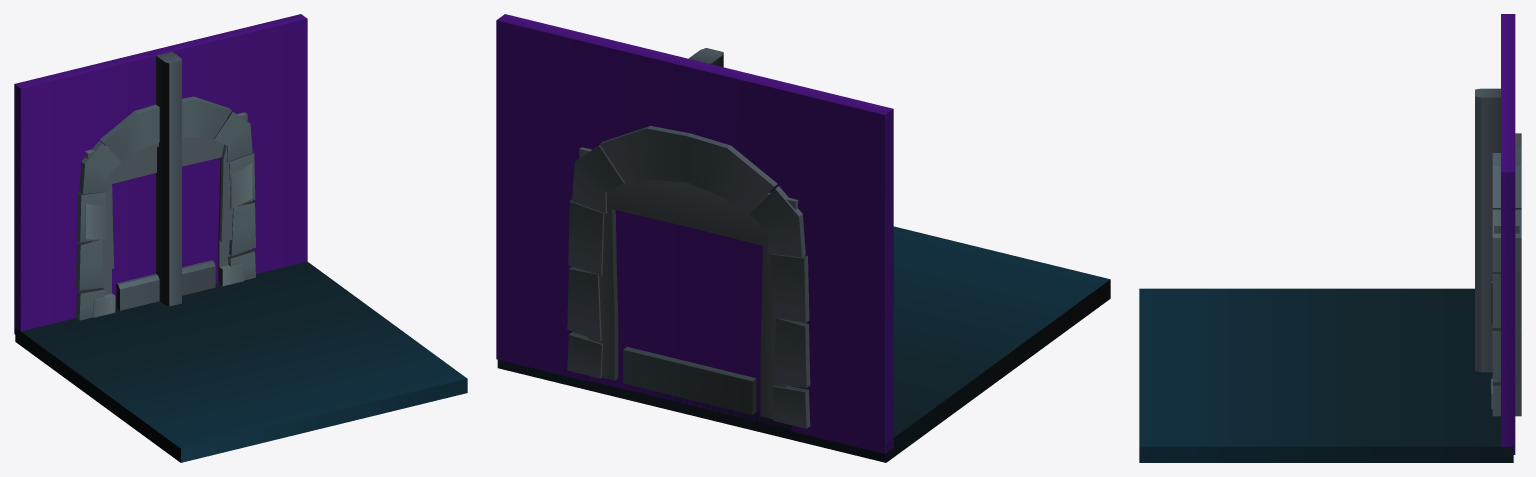
The model's file is Moduls.fbx.
The picture shows the model from 3 angles, left to right: view 1: azimuth 30°, elevation 25°; view 2: azimuth 150°, elevation 25°; view 3: azimuth 270°, elevation 25°; orthographic projection. The views are drawn at different scales.
Parts seen in each view (by area): view 1: Floor_3x3, Wall_3х2.5m, Stone_jamb_2, Stone_jamb_1, Column_1, Border_middle, Wall_with_hole, Border_small; view 2: Wall_with_hole, Floor_3x3, Wall_3х2.5m, Stone_jamb_2, Stone_jamb_1, Border_middle, Border_small; view 3: Floor_3x3, Wall_3х2.5m, Column_1, Stone_jamb_2, Wall_with_hole.
Part boxes in pixels (x1,y1,x2,y2): Floor_3x3: [15, 261, 467, 462]; Wall_3х2.5m: [15, 14, 307, 336]; Stone_jamb_2: [76, 96, 255, 320]; Stone_jamb_1: [85, 112, 252, 317]; Column_1: [156, 51, 181, 306]; Border_middle: [116, 260, 215, 310]; Wall_with_hole: [14, 14, 301, 334]; Border_small: [132, 263, 202, 305]; Wall_with_hole: [496, 19, 892, 453]; Floor_3x3: [497, 226, 1110, 462]; Wall_3х2.5m: [498, 14, 893, 450]; Stone_jamb_2: [567, 126, 810, 428]; Stone_jamb_1: [579, 147, 798, 419]; Border_middle: [623, 347, 756, 414]; Border_small: [641, 351, 734, 410]; Floor_3x3: [1139, 288, 1513, 462]; Wall_3х2.5m: [1501, 14, 1513, 450]; Column_1: [1475, 88, 1500, 372]; Stone_jamb_2: [1492, 133, 1521, 416]; Wall_with_hole: [1503, 14, 1515, 454].
Bounding box in the file's own units: 300 × 257 × 307.
1 material, 1 textured.
